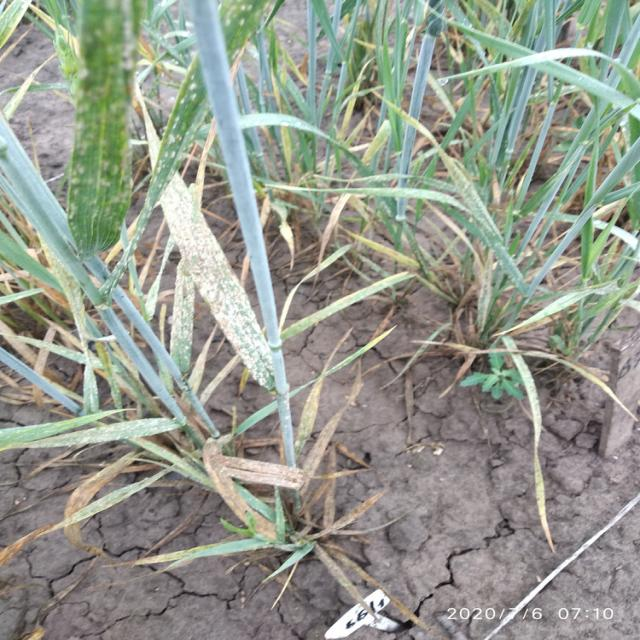wheat-powdery-mildew: (157, 174, 276, 394), (103, 56, 207, 299)
